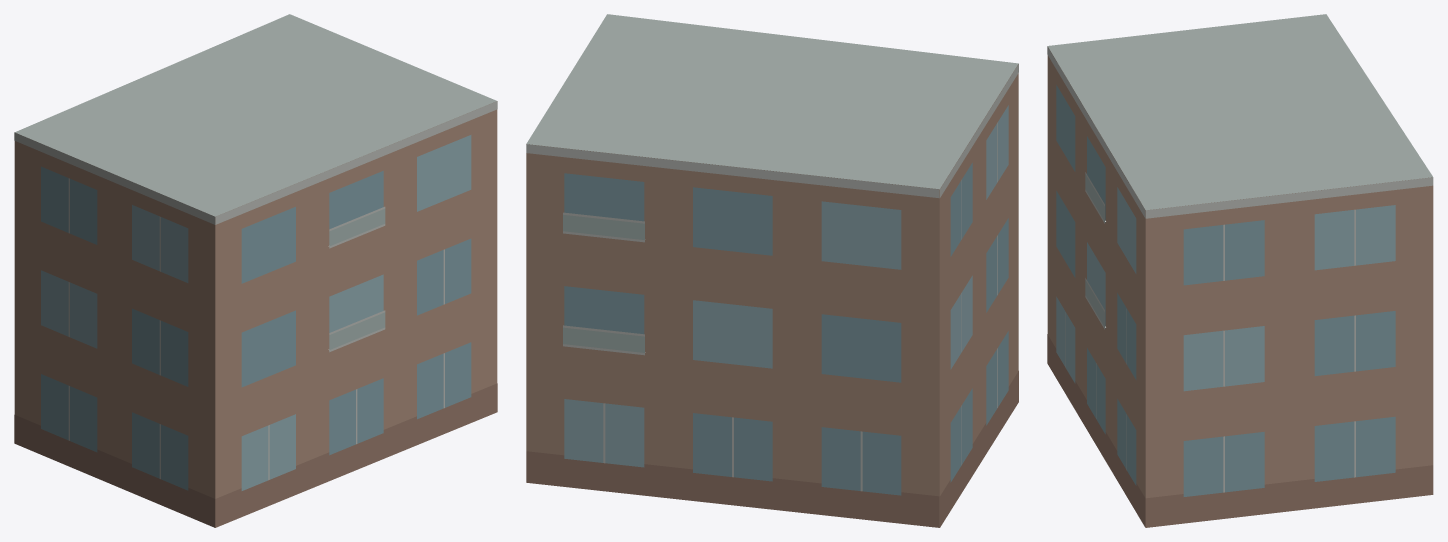
Rendered from survey-upis-32648671.glb.
3 renders of one model, left to right at view 1: azimuth 30°, elevation 25°; view 2: azimuth 150°, elevation 25°; view 3: azimuth 270°, elevation 25°, orthographic. The views are drawn at different scales.
Parts seen in each view (by area): view 1: survey-upis-32648671.tmp; view 2: survey-upis-32648671.tmp; view 3: survey-upis-32648671.tmp.
Part boxes in pixels (x1,y1,x2,y2): survey-upis-32648671.tmp: [14, 14, 497, 527]; survey-upis-32648671.tmp: [526, 14, 1018, 527]; survey-upis-32648671.tmp: [1047, 14, 1433, 527].
Size of the model in its own units: 12.14 by 9.15 by 10.09.
